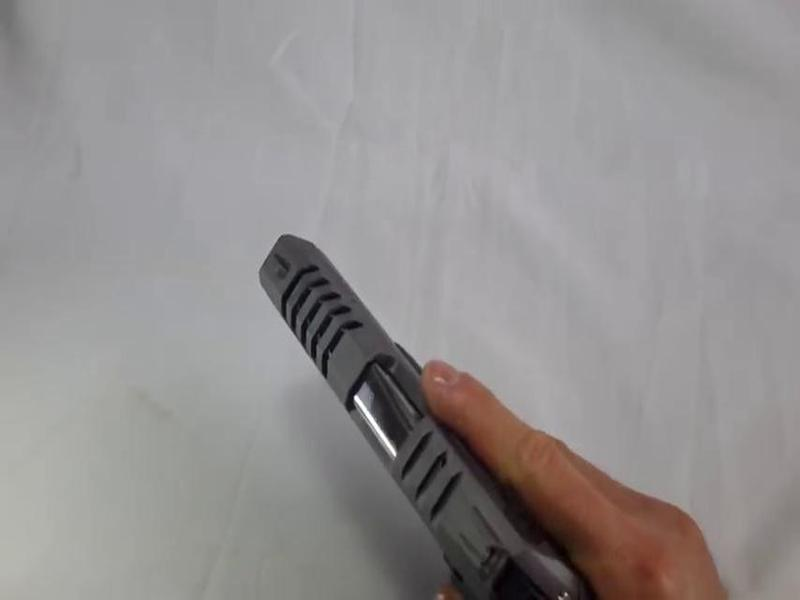Pistola: (223, 190, 566, 600)
